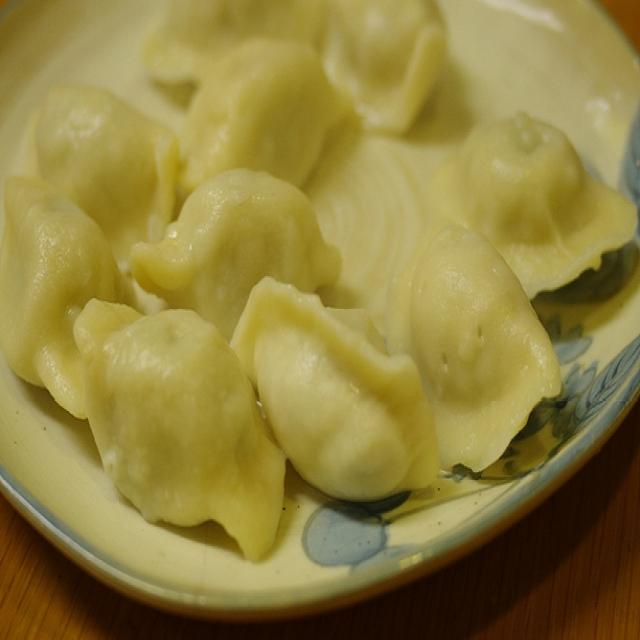带馅早点: (7, 20, 614, 578)
